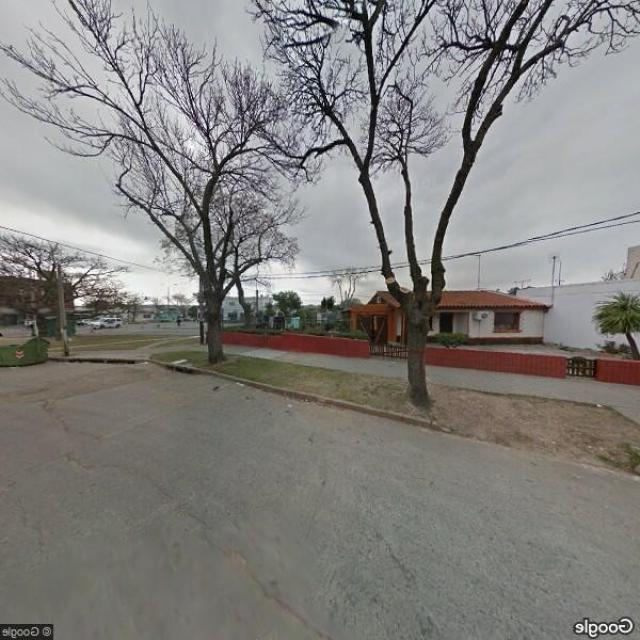garbage container: (0, 327, 56, 373)
